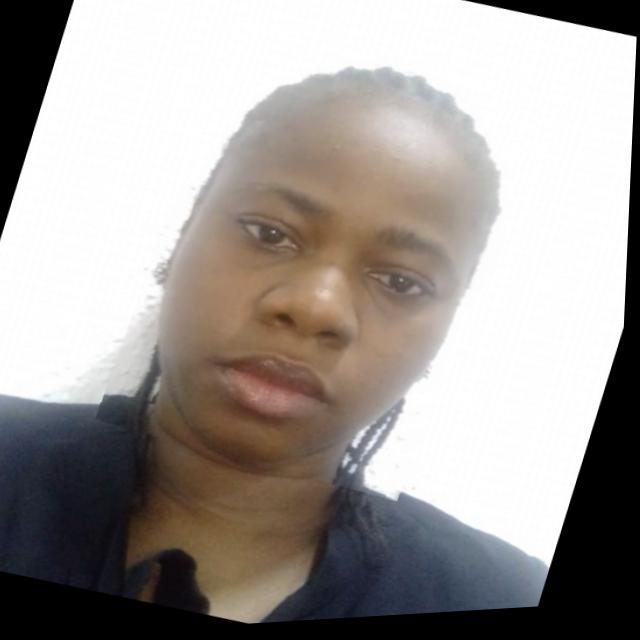sad: (97, 11, 544, 521)
